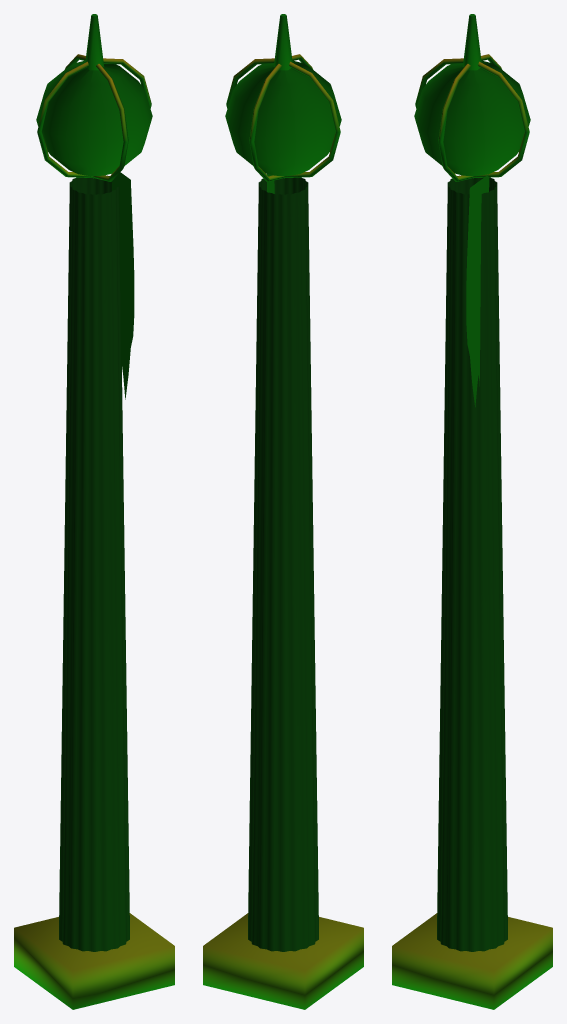
Rendered from iskarra_lamp_column.glb.
The picture shows the model from 3 angles, left to right: view 1: azimuth 30°, elevation 25°; view 2: azimuth 150°, elevation 25°; view 3: azimuth 330°, elevation 25°; orthographic projection.
Parts seen in each view (by area): view 1: iskarra_lamp_column; view 2: iskarra_lamp_column; view 3: iskarra_lamp_column.
Boxes of the visible parts, <box> form: iskarra_lamp_column: <box>14,14,174,1009</box>; iskarra_lamp_column: <box>203,14,363,1009</box>; iskarra_lamp_column: <box>392,14,552,1009</box>.
Size of what is drawn, in the model's own units: 0.816 by 6.55 by 0.816.
